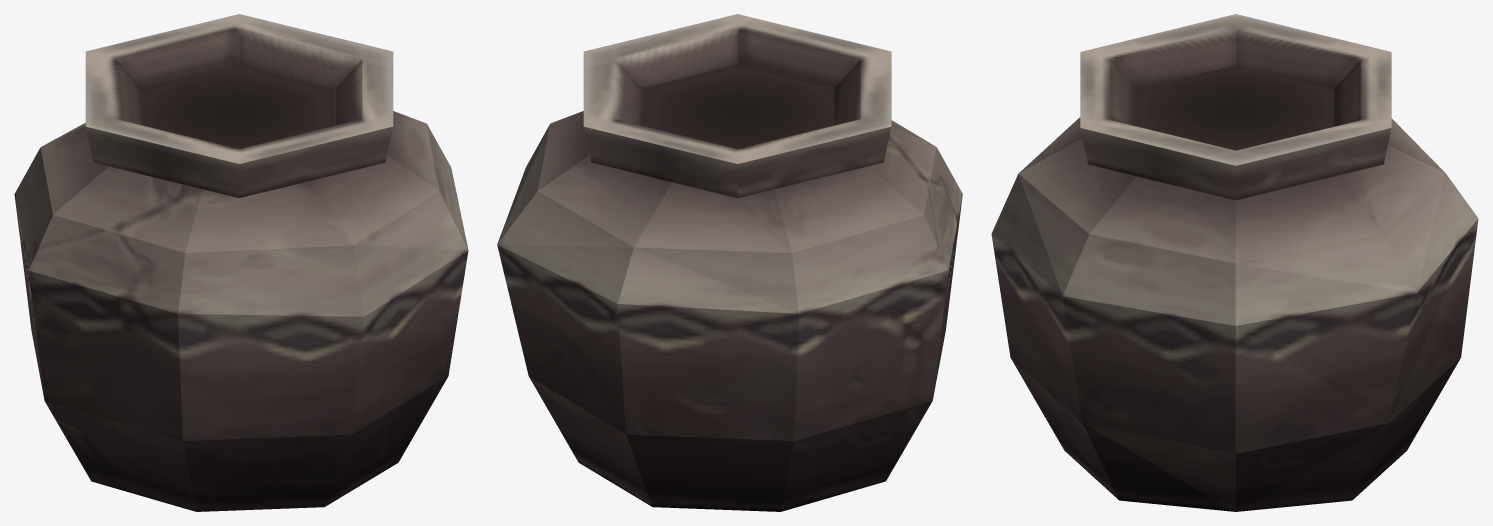
The model's file is js_suilie_taoguan_002.FBX.
3 renders of one model, left to right at view 1: azimuth 30°, elevation 25°; view 2: azimuth 150°, elevation 25°; view 3: azimuth 270°, elevation 25°, orthographic.
Visible parts, largest first — view 1: Cylinder02; view 2: Cylinder02; view 3: Cylinder02.
Boxes of the visible parts, x1,y1,x2,y2 form: Cylinder02: (14, 14, 468, 511); Cylinder02: (497, 14, 962, 511); Cylinder02: (991, 14, 1478, 511).
Bounding box in the file's own units: 39.43 × 31.75 × 38.88.
